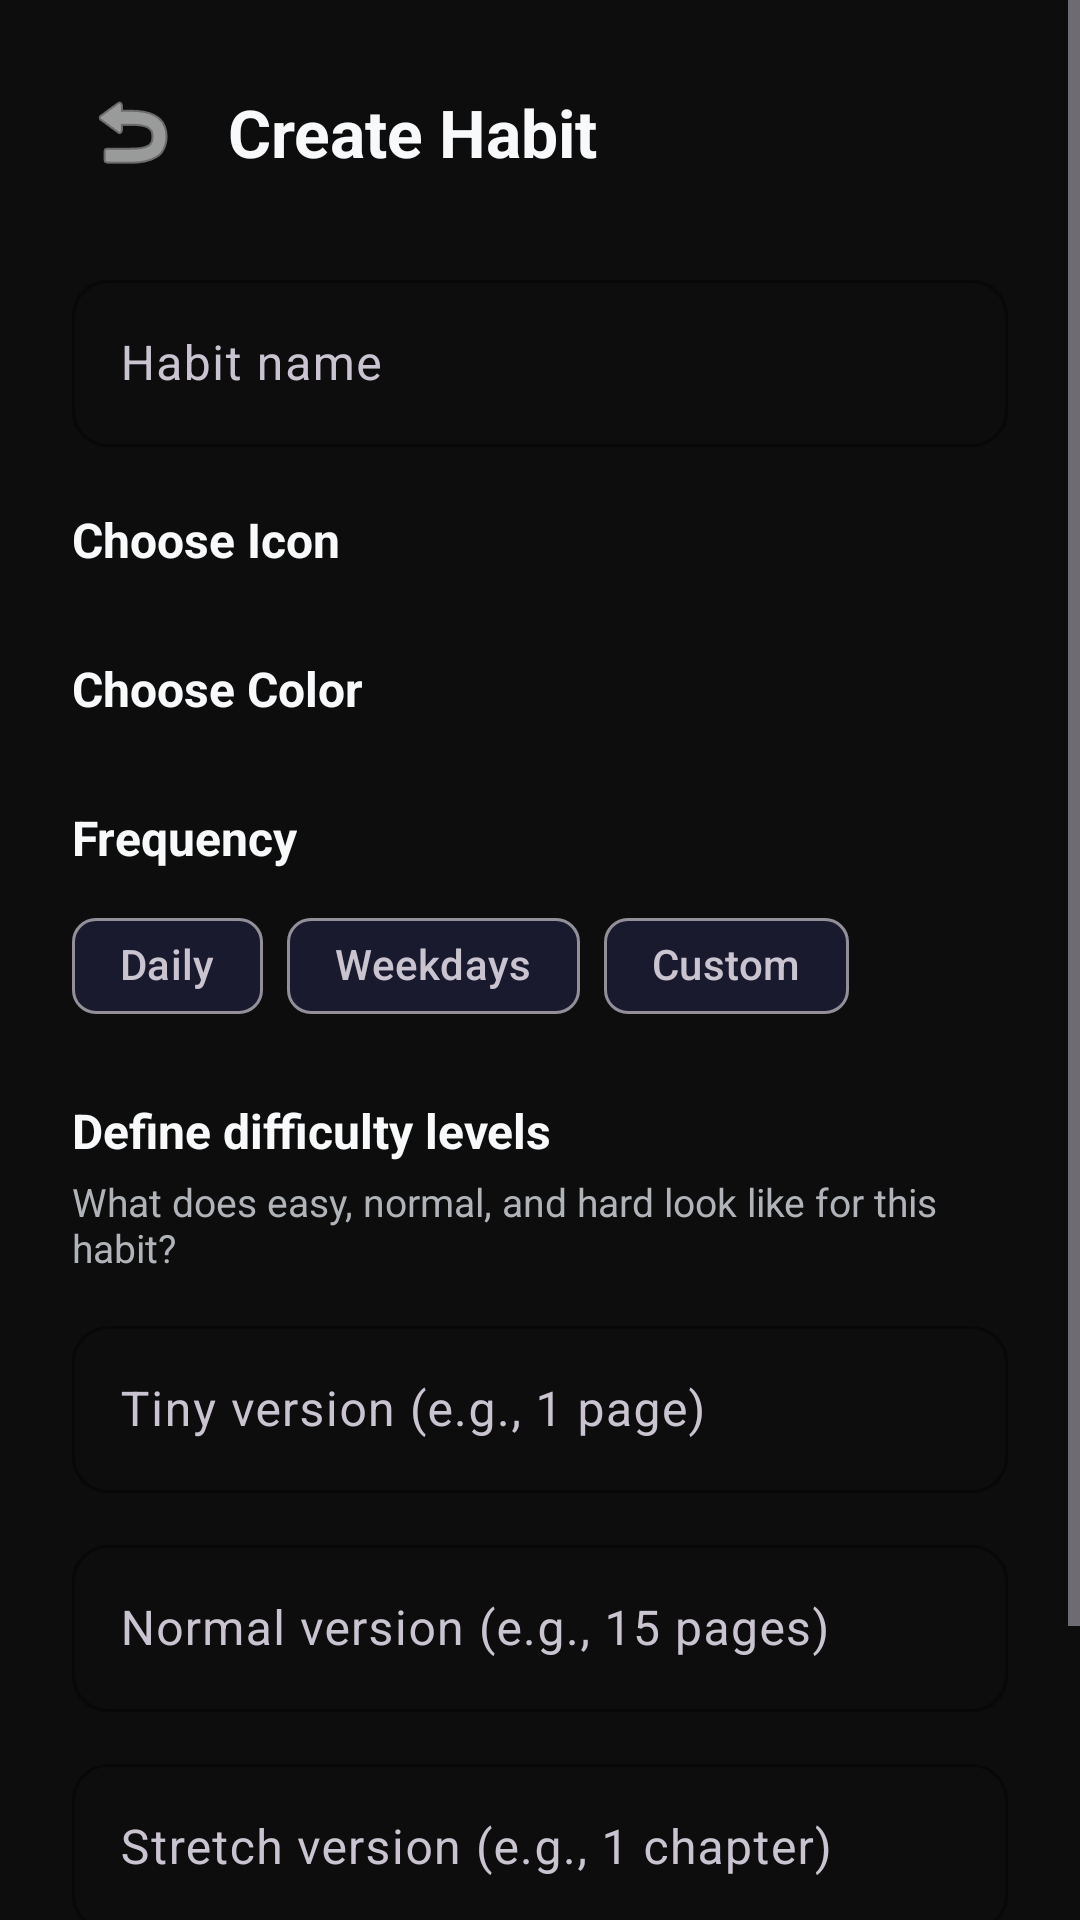

Icon bounding boxes for this 1080px x 1920px phone screenshot, format (x1, y1, x2, y2):
Back: (99, 101, 168, 164)
